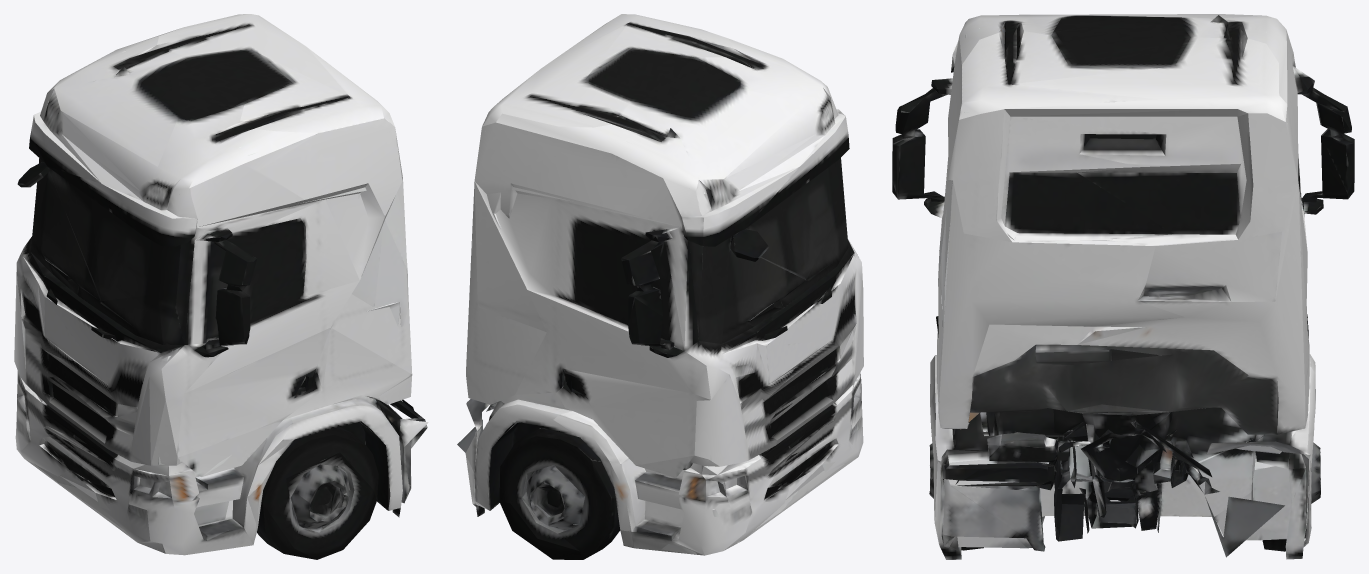
File: cargo-rigid-heavy-cab-v1.glb
3 views of the same model, side by side, from view 1: azimuth 30°, elevation 25°; view 2: azimuth 150°, elevation 25°; view 3: azimuth 270°, elevation 25° (orthographic). The views are drawn at different scales.
Visible parts, largest first — view 1: output_unwrapped; view 2: output_unwrapped; view 3: output_unwrapped.
Boxes of the visible parts, x1,y1,x2,y2 form: output_unwrapped: [14, 14, 428, 559]; output_unwrapped: [457, 14, 863, 559]; output_unwrapped: [892, 14, 1354, 559].
Bounding box in the file's own units: 0.672 × 0.9757 × 0.8305.
Materials: 1 (1 with a texture image).
